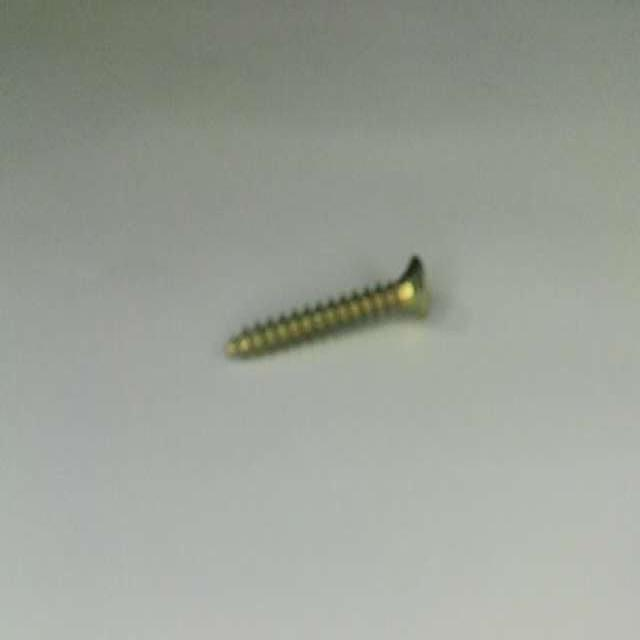Parafuso: (226, 257, 429, 356)
